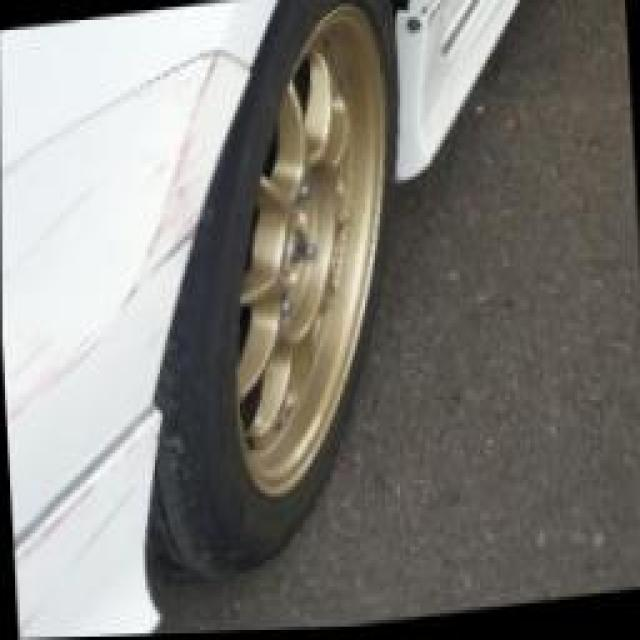Door: (0, 37, 235, 640)
